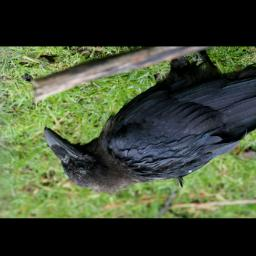Crow: (41, 47, 256, 194)
